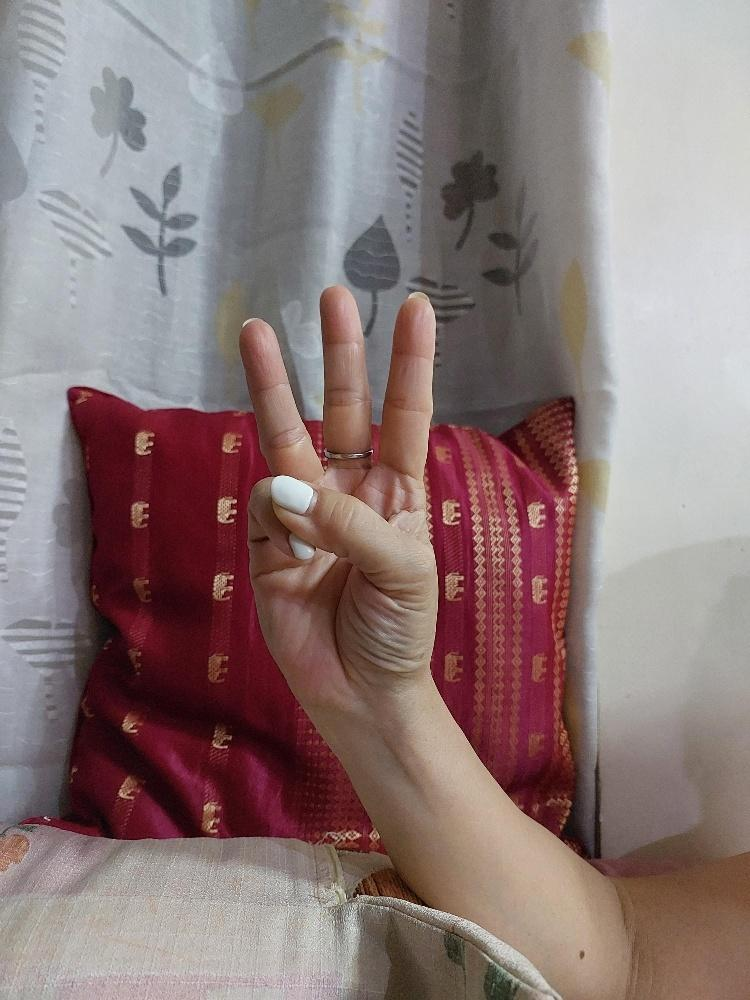w: (233, 281, 443, 689)
